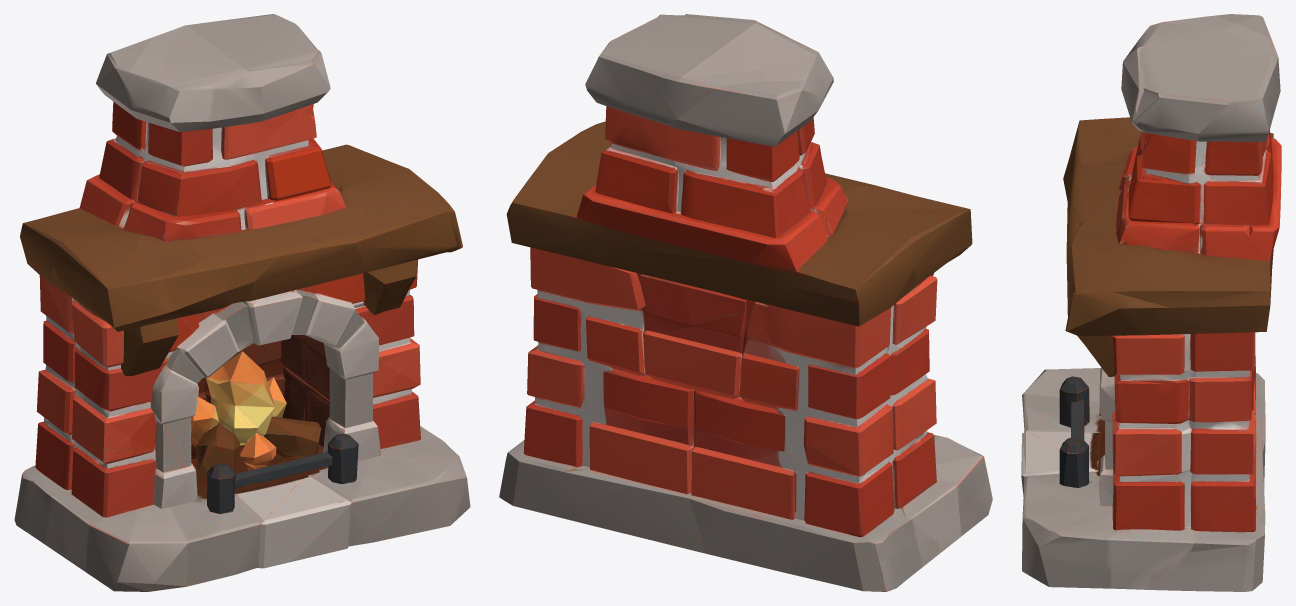
Rendered from fireplace.glb.
3 views of the same model, side by side, from view 1: azimuth 30°, elevation 25°; view 2: azimuth 150°, elevation 25°; view 3: azimuth 270°, elevation 25° (orthographic). The views are drawn at different scales.
Parts seen in each view (by area): view 1: Mesh_0; view 2: Mesh_0; view 3: Mesh_0.
Part boxes in pixels (bbox=[...]): Mesh_0: bbox=[14, 14, 470, 591]; Mesh_0: bbox=[499, 14, 992, 591]; Mesh_0: bbox=[1021, 14, 1281, 591].
Bounding box in the file's own units: 1.72 × 2 × 1.04.
Materials: 1 (1 with a texture image).
